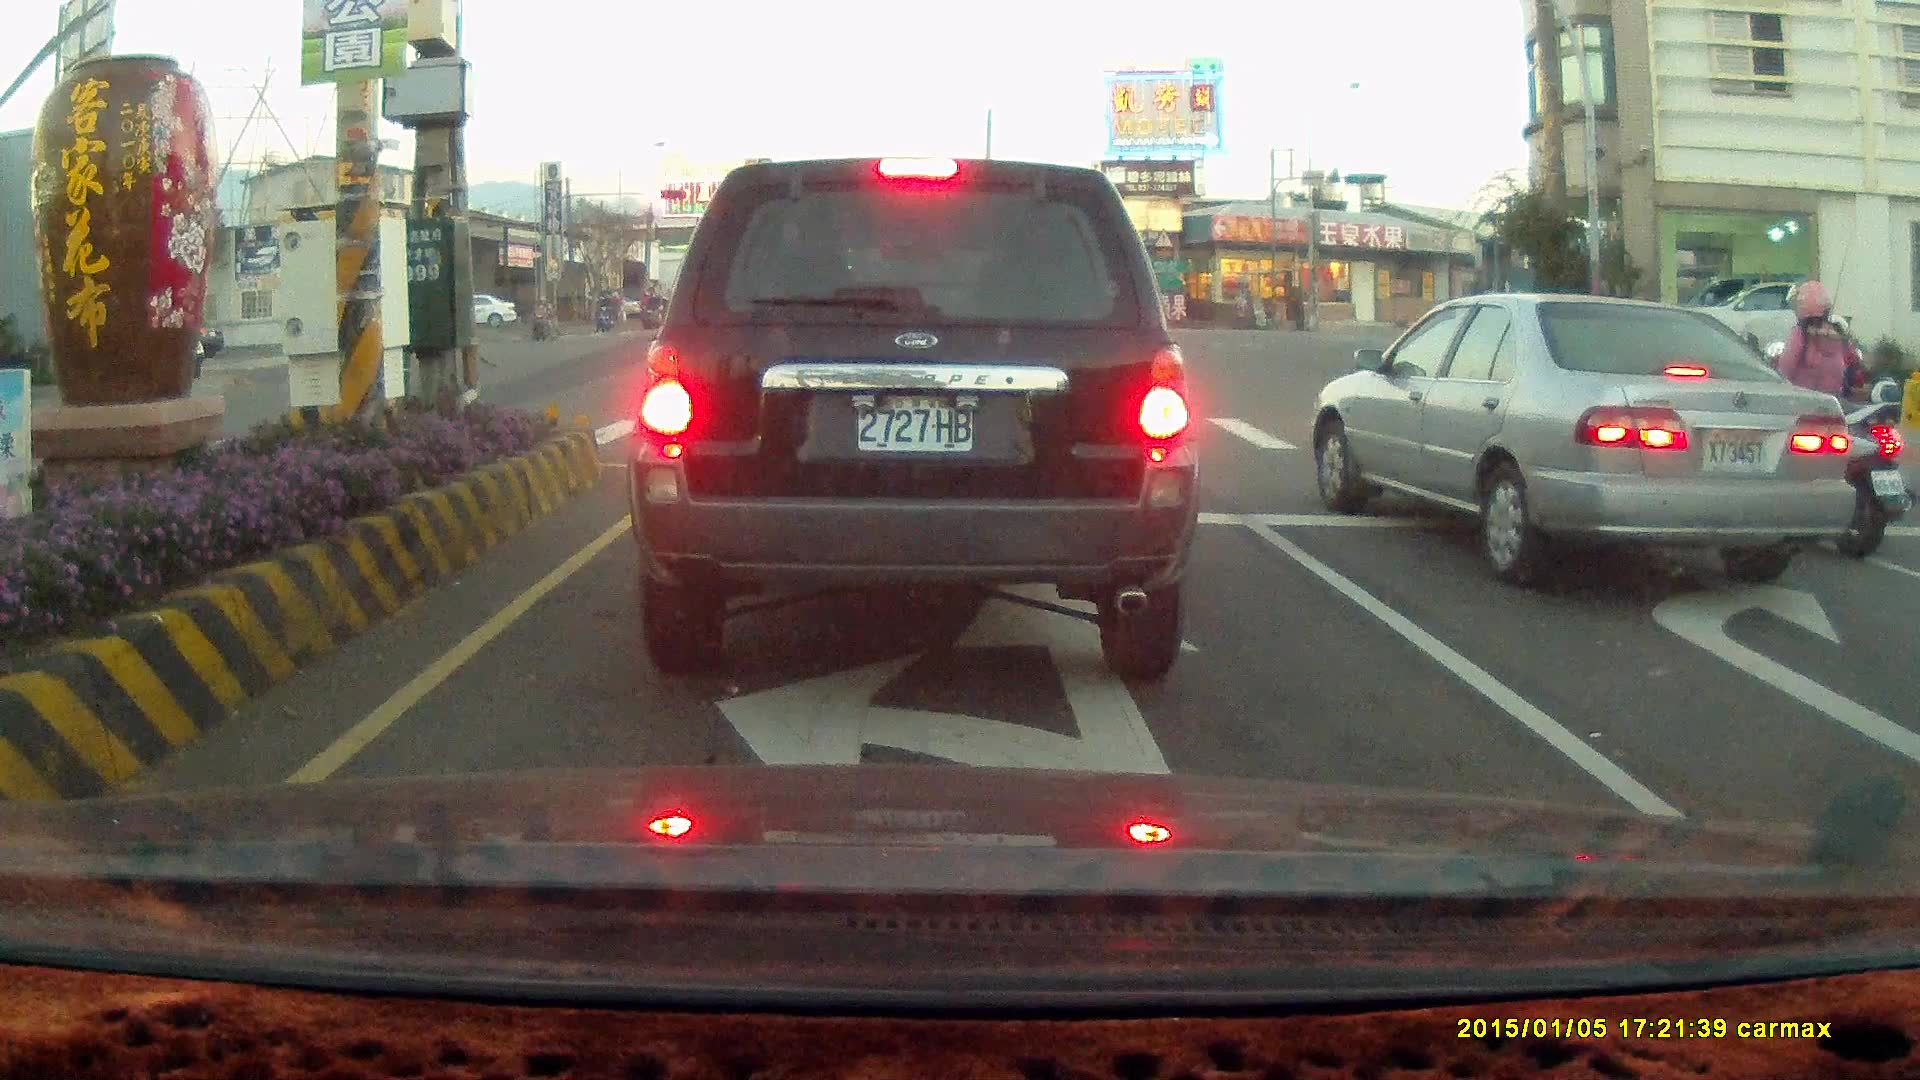rider: (1691, 276, 1916, 562), (528, 289, 562, 338), (593, 292, 614, 333), (643, 291, 664, 328)
vehicle: (625, 155, 1200, 686), (1310, 290, 1857, 586), (1315, 293, 1853, 579), (1651, 274, 1857, 369), (1668, 275, 1823, 373), (1896, 493, 1920, 836)
